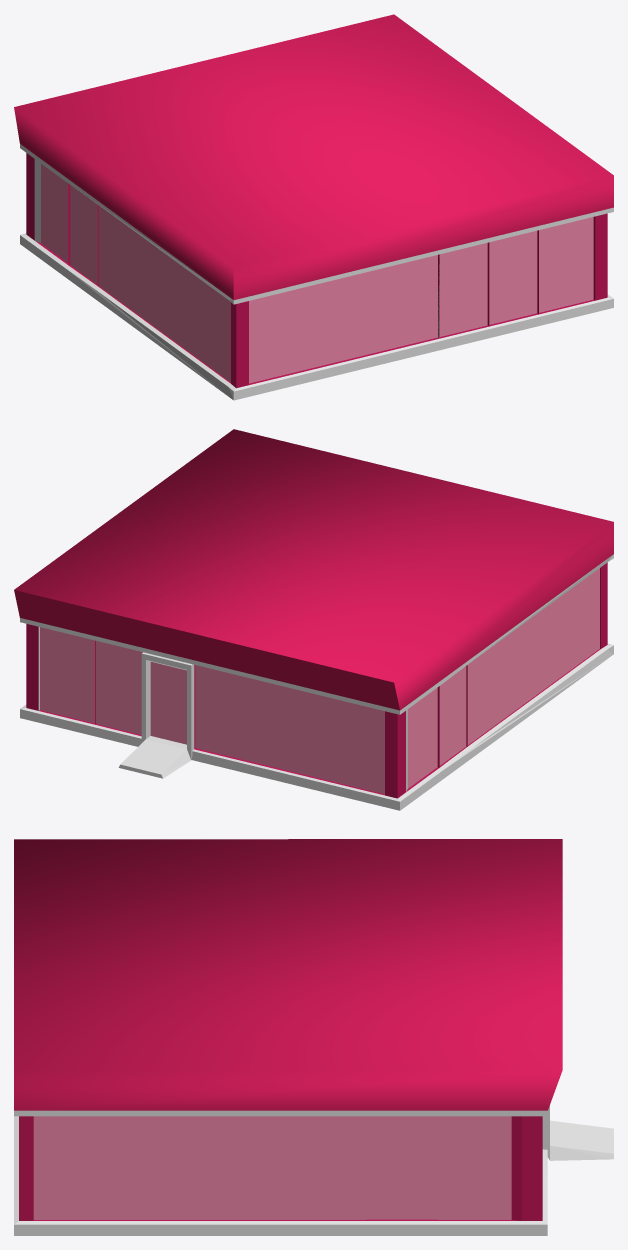
Rendered from Shop6x6x2Pink.fbx.
3 renders of one model, top to bottom at view 1: azimuth 30°, elevation 25°; view 2: azimuth 150°, elevation 25°; view 3: azimuth 270°, elevation 25°, orthographic. The views are drawn at different scales.
Visible parts, largest first — view 1: Shop.001; view 2: Shop.001; view 3: Shop.001.
Boxes of the visible parts, bbox=[...] form: Shop.001: bbox=[14, 14, 613, 400]; Shop.001: bbox=[14, 429, 613, 810]; Shop.001: bbox=[14, 839, 613, 1235].
Bounding box in the file's own units: 5.92 × 1.97 × 6.49.
Materials: 1 (1 with a texture image).
